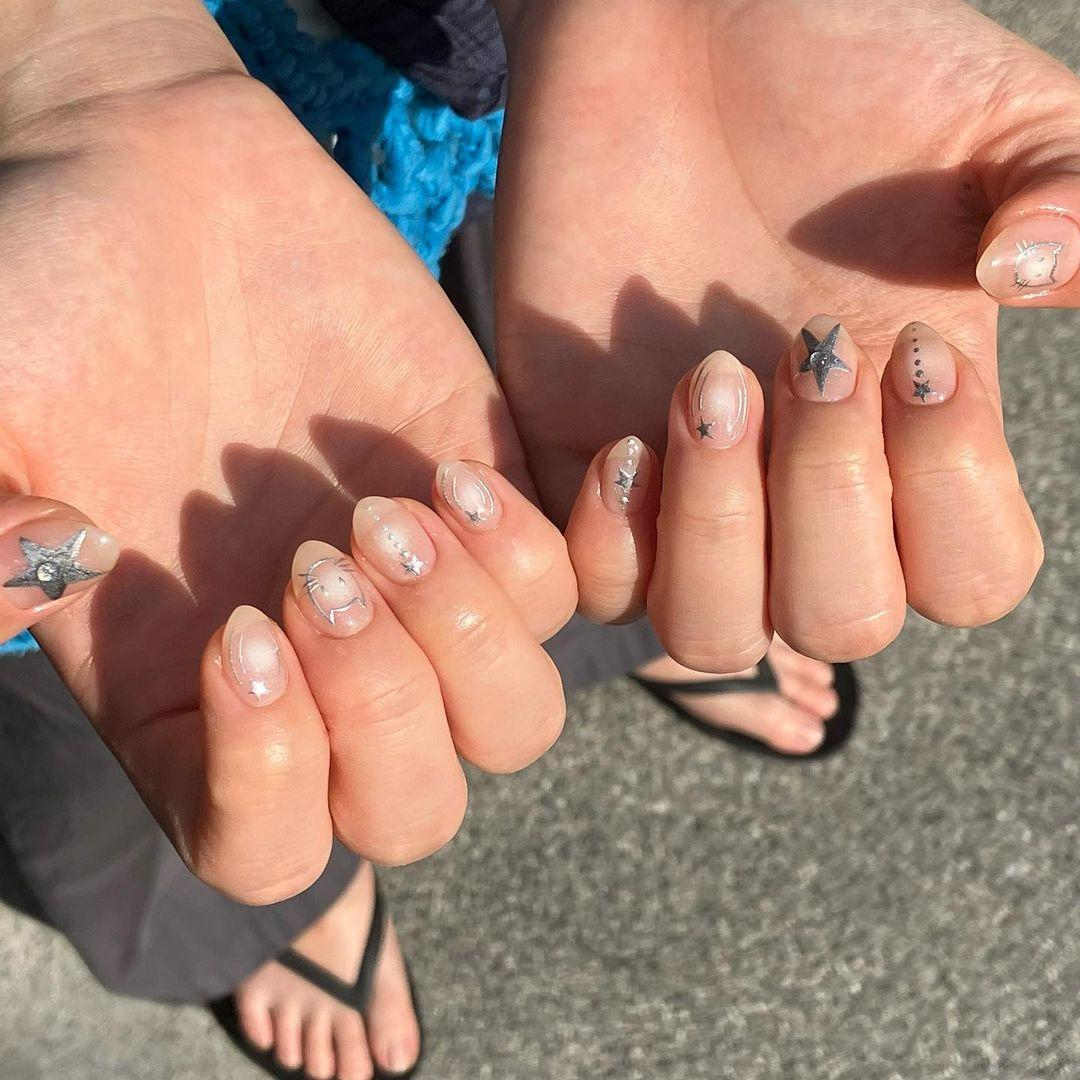nail: (0, 520, 119, 610), (974, 207, 1079, 305), (350, 494, 436, 584), (687, 351, 749, 450), (224, 613, 288, 708), (791, 313, 857, 402), (300, 555, 372, 636), (890, 320, 957, 407), (435, 459, 501, 532), (597, 434, 648, 515)
